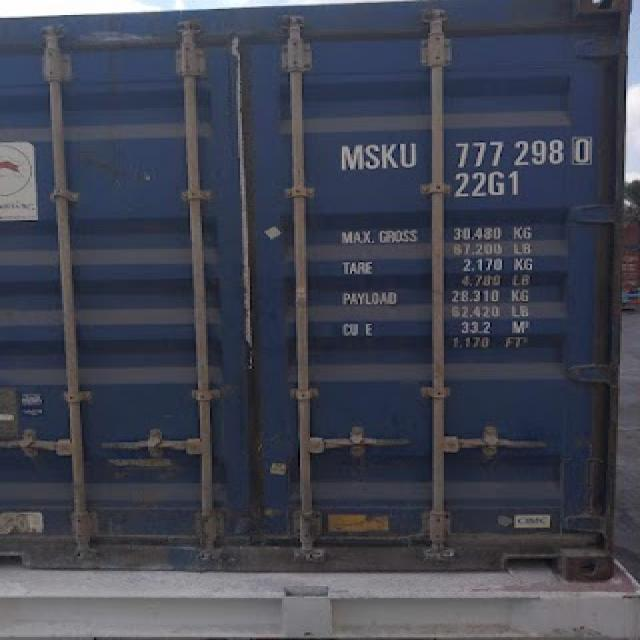ISO: (459, 172, 522, 198)
container_number: (336, 134, 586, 170)
